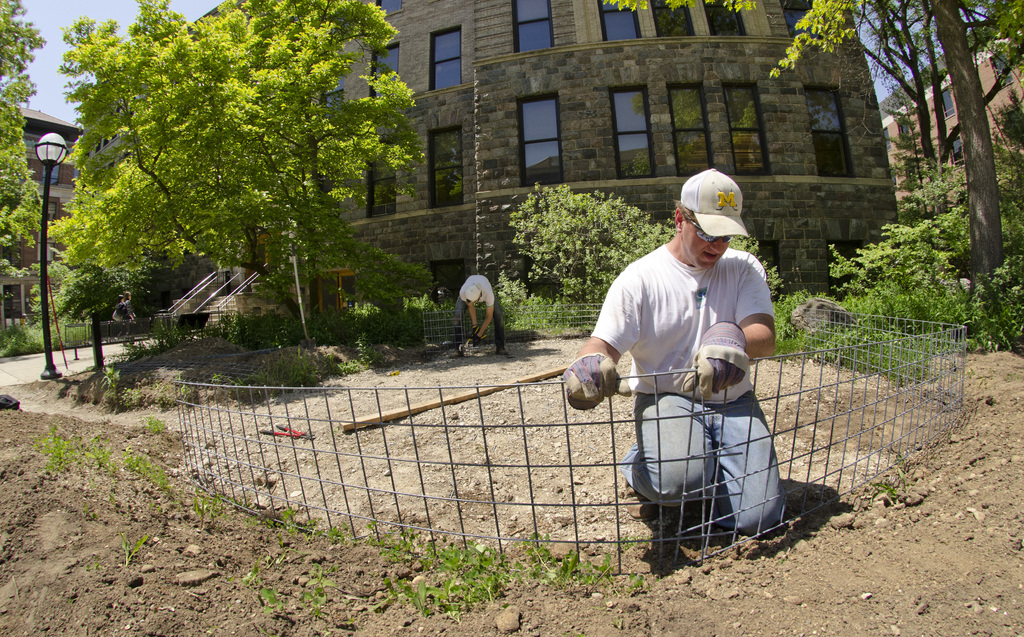Tree: (595, 0, 1023, 297), (42, 26, 407, 336)
